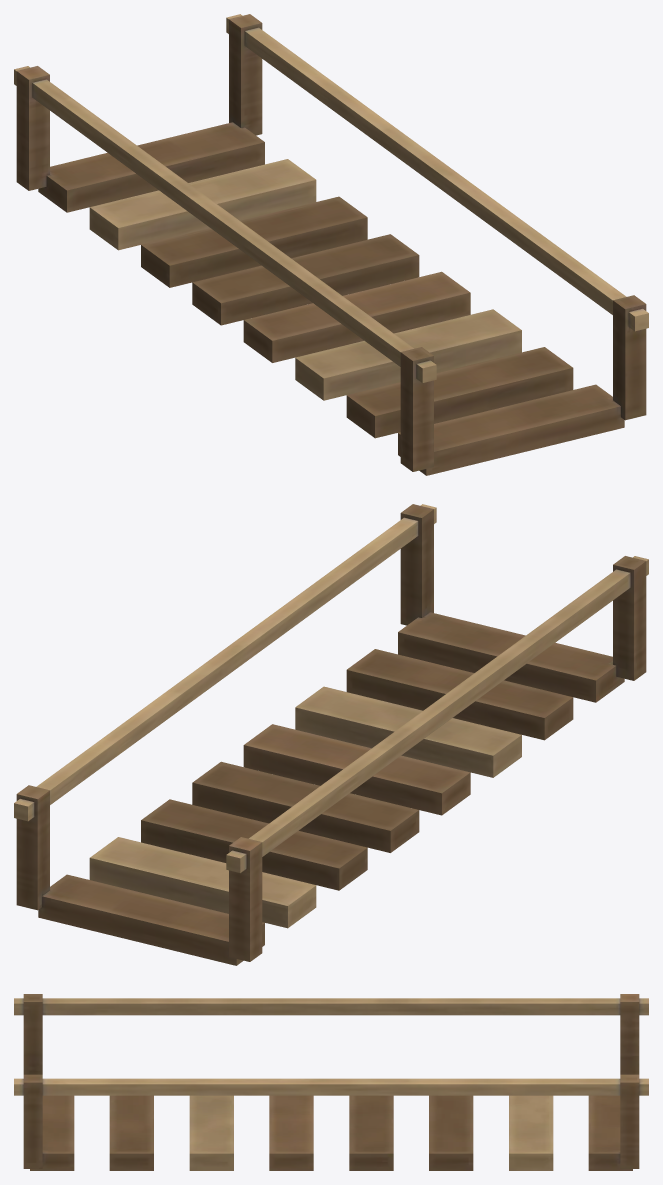
File: raft-walk-age10.glb
3 views of the same model, one above another, from view 1: azimuth 30°, elevation 25°; view 2: azimuth 150°, elevation 25°; view 3: azimuth 270°, elevation 25° (orthographic). The views are drawn at different scales.
Parts seen in each view (by area): view 1: raft-walk-age10; view 2: raft-walk-age10; view 3: raft-walk-age10.
Part boxes in pixels (<box>): raft-walk-age10: <box>14,14,648,475</box>; raft-walk-age10: <box>14,504,648,965</box>; raft-walk-age10: <box>14,994,648,1170</box>.
Size of the model in its own units: 0.33 by 0.165 by 1.
Materials: 1 (1 with a texture image).
